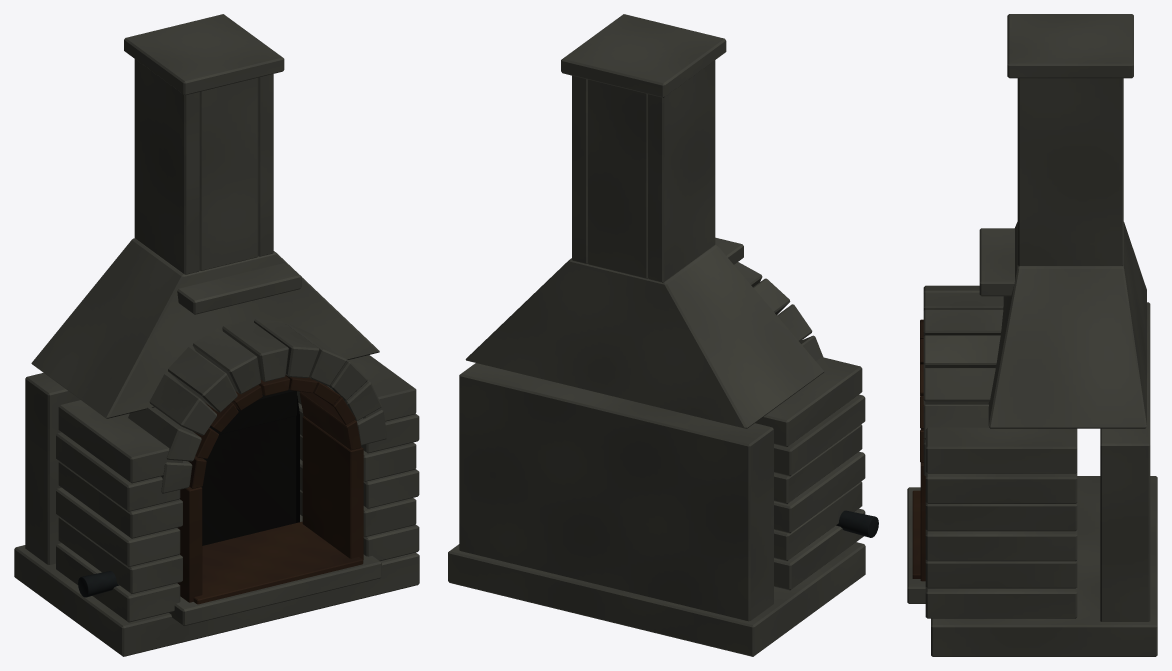
The model's file is smithy_furnace.glb.
3 views of the same model, side by side, from view 1: azimuth 30°, elevation 25°; view 2: azimuth 150°, elevation 25°; view 3: azimuth 270°, elevation 25° (orthographic). The views are drawn at different scales.
Parts seen in each view (by area): view 1: MasonryShell, FirebrickLining, SootedFirebox, TuyereAndHearthIron; view 2: MasonryShell, TuyereAndHearthIron; view 3: MasonryShell, FirebrickLining.
Boxes of the visible parts, x1=… form: MasonryShell: x1=14, y1=14, x2=419, y2=656; FirebrickLining: x1=177, y1=375, x2=363, y2=604; SootedFirebox: x1=201, y1=389, x2=299, y2=545; TuyereAndHearthIron: x1=78, y1=571, x2=119, y2=597; MasonryShell: x1=448, y1=14, x2=865, y2=656; TuyereAndHearthIron: x1=836, y1=510, x2=878, y2=537; MasonryShell: x1=907, y1=14, x2=1157, y2=656; FirebrickLining: x1=912, y1=319, x2=925, y2=581.
Bounding box in the file's own units: 2.61 × 4.07 × 1.7.
Materials: 4 (4 with a texture image).
